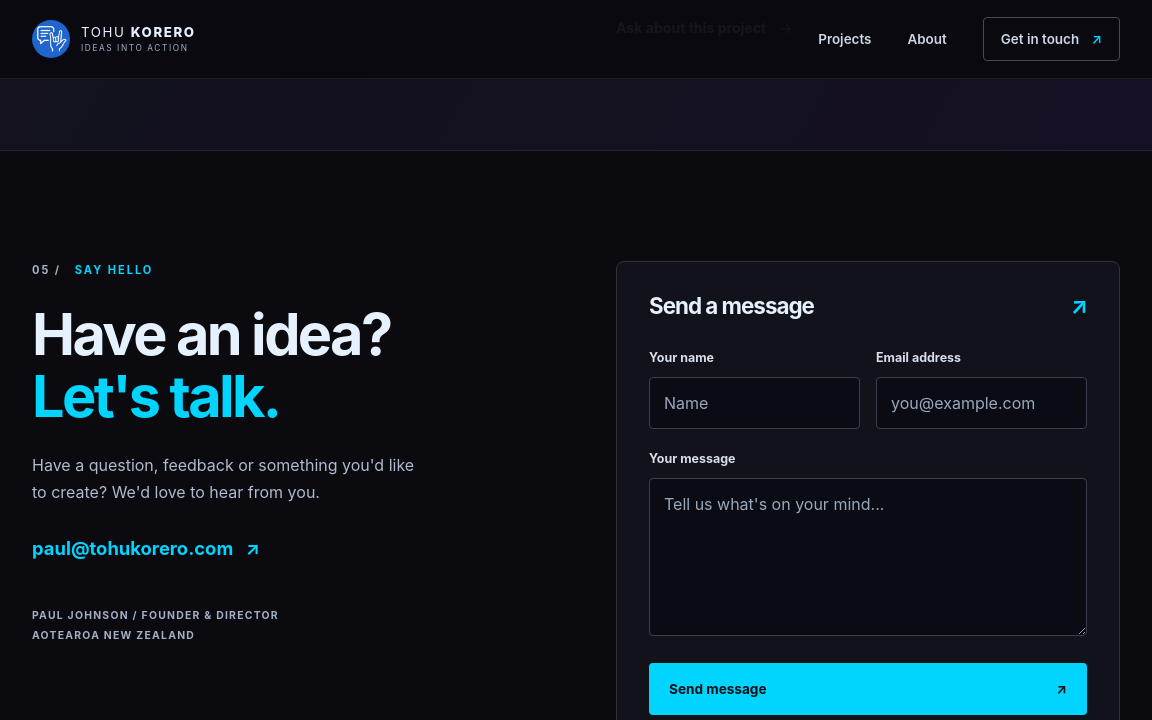
Test: sends the existing EmailJS payload and clears the form on success
The width and height of the screenshot is (1152, 720).
(page scrolled)
Type "Alex" into the field labelled "Your name" at (754,403), box [649,377,860,429]
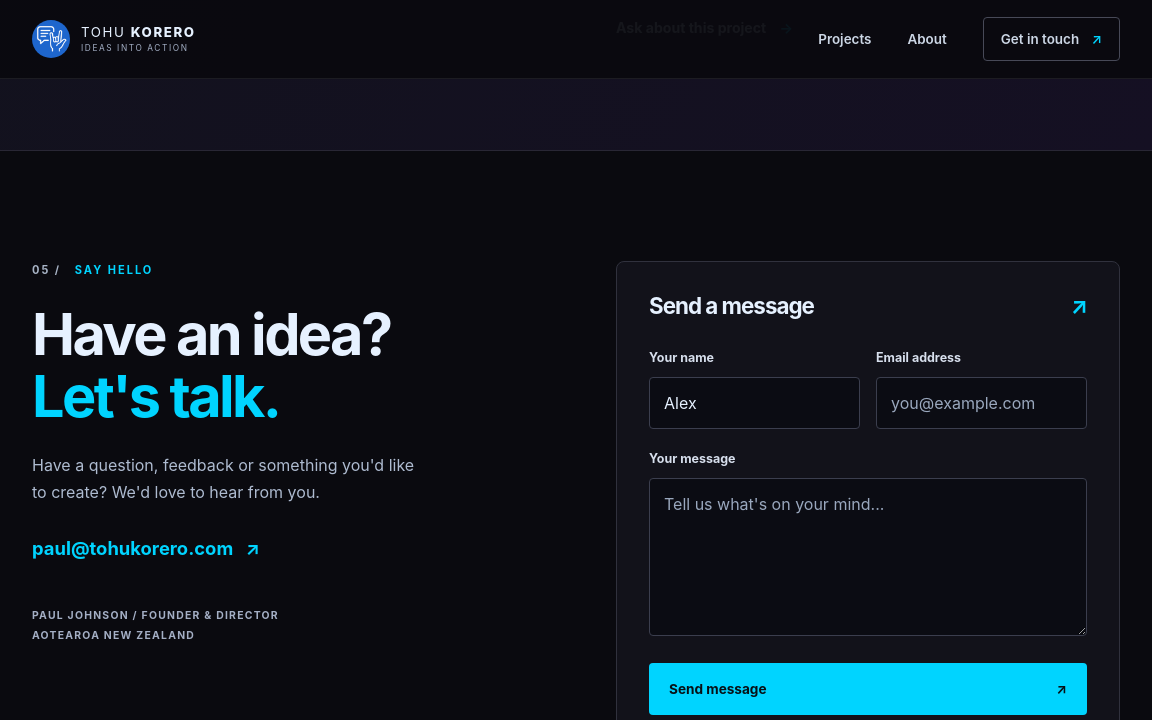
Type "alex@example.com" into the field labelled "Email address" at (982,403), box [876,377,1087,429]
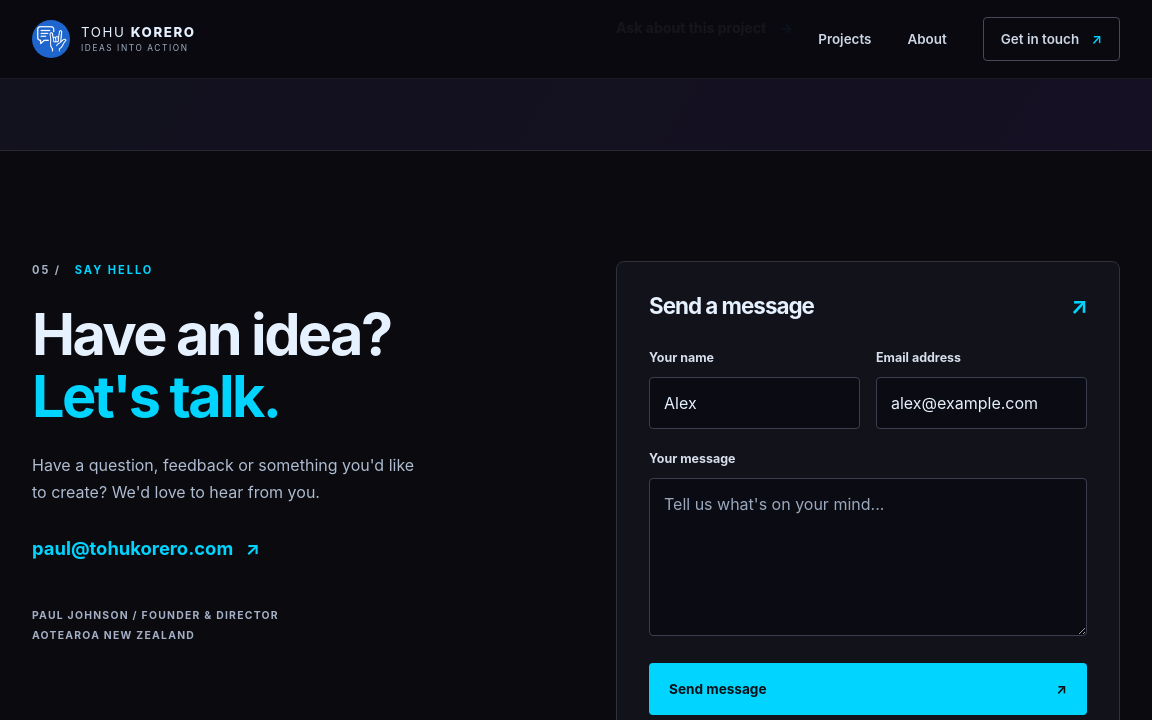
Type "Hello there" into the text box labelled "Your message" at (868,557), box [649,478,1087,636]
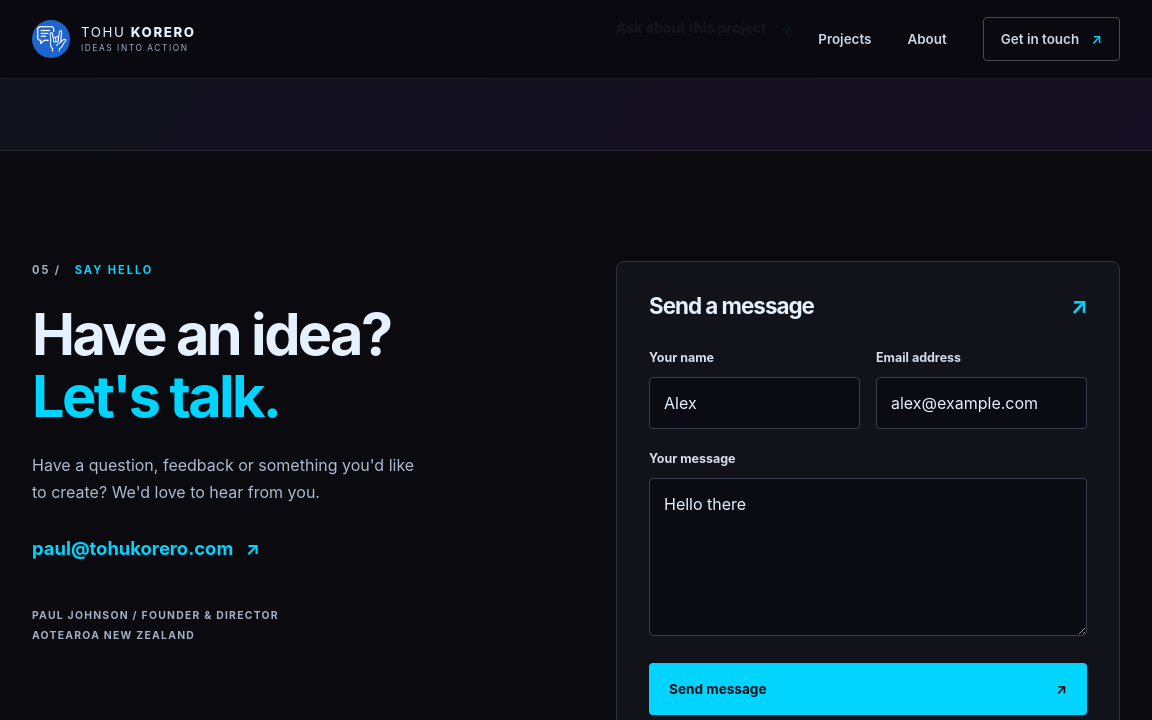
Click the button "Send message ↗" at (718,689), box [649,663,1087,715]
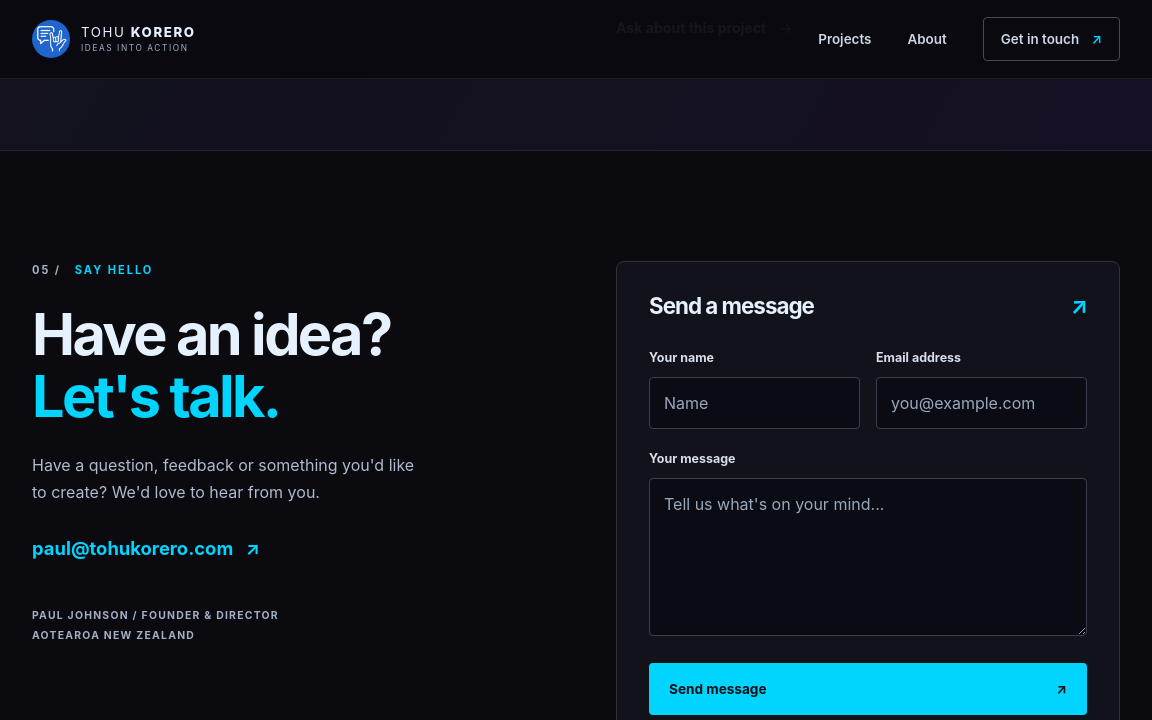
Now the text box labelled "Your message" is empty, box [649,478,1087,636]
